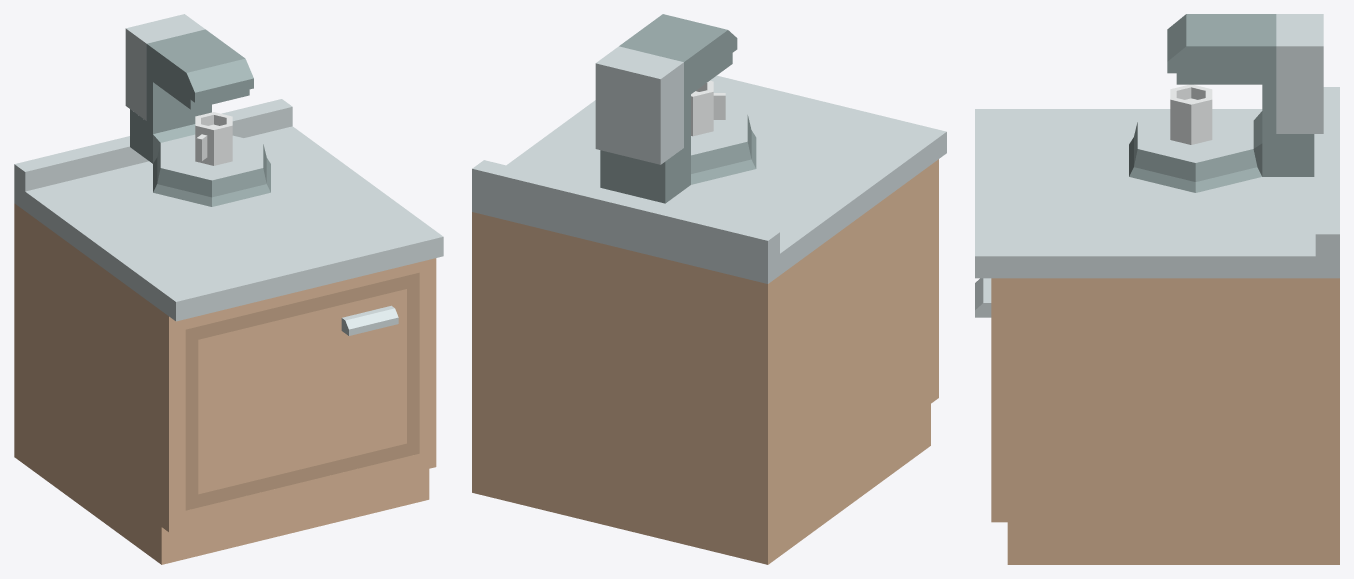
The model's file is coffeeCounter.glb.
3 views of the same model, side by side, from view 1: azimuth 30°, elevation 25°; view 2: azimuth 150°, elevation 25°; view 3: azimuth 270°, elevation 25° (orthographic). The views are drawn at different scales.
Visible parts, largest first — view 1: kitchenCabinet(Clone), kitchenCoffeeMachine(Clone), door, mug; view 2: kitchenCabinet(Clone), kitchenCoffeeMachine(Clone), mug; view 3: kitchenCabinet(Clone), kitchenCoffeeMachine(Clone), mug.
Part boxes in pixels (x1,y1,x2,y2): kitchenCabinet(Clone): (14,14,443,564); kitchenCoffeeMachine(Clone): (130,29,270,206); door: (185,272,419,510); mug: (195,112,232,165); kitchenCabinet(Clone): (472,46,946,564); kitchenCoffeeMachine(Clone): (600,14,756,203); mug: (691,81,725,136); kitchenCabinet(Clone): (975,14,1339,564); kitchenCoffeeMachine(Clone): (1129,14,1314,192); mug: (1170,84,1212,144).
Bounding box in the file's own units: 0.43 × 0.6275 × 0.45.
